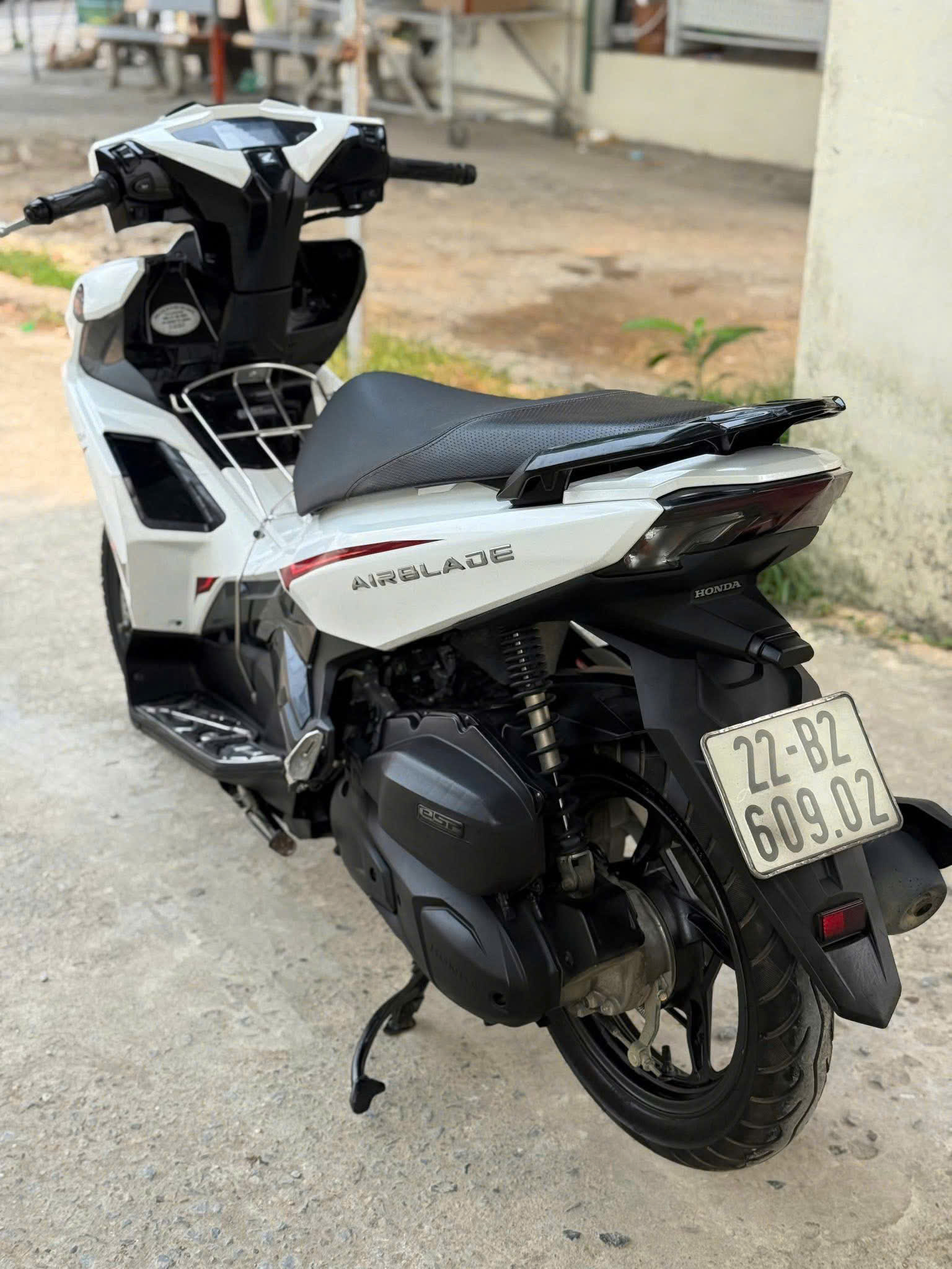Bien-so: (694, 682, 897, 884)
